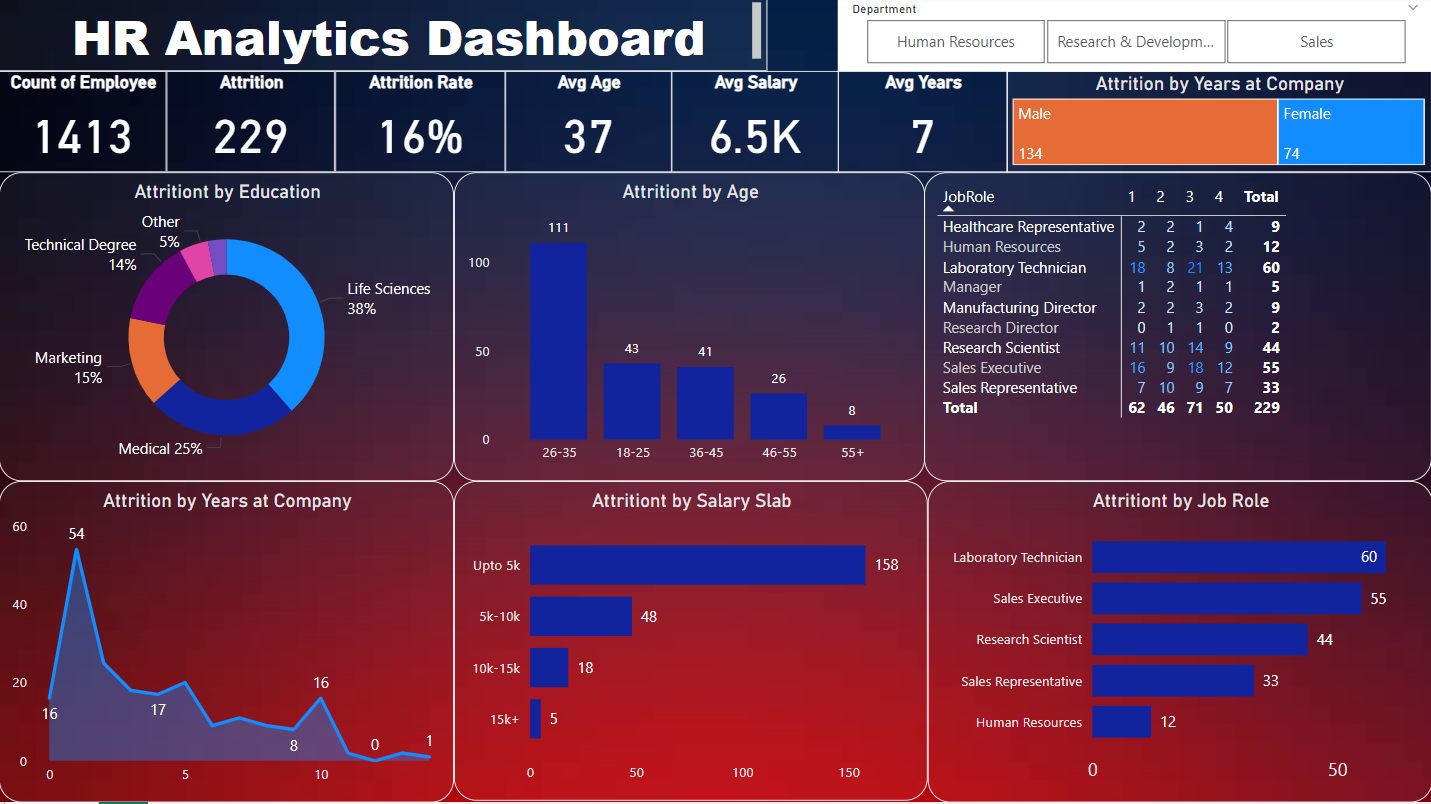

Layout of this report page (visuals, bound fields, positions):
{"tool":"powerbi","page":{"name":"Page 1","canvas":[1280,720],"ordinal":0},"visuals":[{"type":"card","title":"Count of Employee","fields":{"Values":["CountNonNull(HR_Analytics.EmpID)"]},"box":[0,67,149.6,90.4],"z":0},{"type":"card","title":"Attrition","fields":{"Values":["Sum(HR_Analytics.AttritionCount)"]},"box":[149.6,67,150.7,90.4],"z":1000},{"type":"card","title":"Attrition Rate","fields":{"Values":["HR_Analytics.AttritionRate"]},"box":[300.4,67,151.9,90.4],"z":2000},{"type":"card","title":"Avg Age","fields":{"Values":["Avg(HR_Analytics.Age)"]},"box":[452.2,67,148.5,90.4],"z":3000},{"type":"card","title":"Avg Salary","fields":{"Values":["Avg(HR_Analytics.MonthlyIncome)"]},"box":[600.7,67,149.6,90.4],"z":4000},{"type":"card","title":"Avg Years","fields":{"Values":["Avg(HR_Analytics.YearsAtCompany)"]},"box":[749.3,67,151.9,90.4],"z":5000},{"type":"donutChart","title":"Attritiont by Education","fields":{"Category":["HR_Analytics.EducationField"],"Y":["Sum(HR_Analytics.AttritionCount)"]},"box":[0,157.4,406.5,275.8],"z":6000},{"type":"clusteredColumnChart","title":"Attritiont by Age","fields":{"Category":["HR_Analytics.AgeGroup"],"Y":["Sum(HR_Analytics.AttritionCount)"]},"box":[406.5,157.4,421,275.8],"z":7000},{"type":"pivotTable","fields":{"Rows":["HR_Analytics.JobRole"],"Columns":["HR_Analytics.JobSatisfaction"],"Values":["Sum(HR_Analytics.AttritionCount)"]},"box":[826.3,157.4,453.4,275.8],"z":8000},{"type":"clusteredBarChart","title":"Attritiont by Salary Slab","fields":{"Category":["HR_Analytics.SalarySlab"],"Y":["Sum(HR_Analytics.AttritionCount)"]},"box":[406.5,433.3,423.2,285.9],"z":9000},{"type":"areaChart","title":"Attrition by Years at Company","fields":{"Category":["HR_Analytics.YearsAtCompany"],"Y":["Sum(HR_Analytics.AttritionCount)"]},"box":[0,433.3,406.5,287],"z":10000},{"type":"clusteredBarChart","title":"Attritiont by Job Role","fields":{"Y":["Sum(HR_Analytics.AttritionCount)"],"Category":["HR_Analytics.JobRole","HR_Analytics.JobLevel"]},"box":[829.7,433.3,451.1,287],"z":11000},{"type":"textbox","box":[0,0,686.7,67],"z":12000},{"type":"treemap","title":"Attrition by Years at Company","fields":{"Group":["HR_Analytics.Gender"],"Values":["Sum(HR_Analytics.AttritionCount)"]},"box":[900,67,379.7,90.4],"z":13000},{"type":"slicer","fields":{"Values":["HR_Analytics.Department"]},"box":[749.3,0,531.5,67],"z":14000}]}

Visuals, with their boxes in screenshot pixels (x1, y1, x2, y2), scaled from the page's 1280x720 canvas onto the 1431x804 screenshot:
"Count of Employee" card: (0, 75, 167, 176)
"Attrition" card: (167, 75, 336, 176)
"Attrition Rate" card: (336, 75, 506, 176)
"Avg Age" card: (506, 75, 672, 176)
"Avg Salary" card: (672, 75, 839, 176)
"Avg Years" card: (838, 75, 1008, 176)
"Attritiont by Education" donutChart: (0, 176, 454, 484)
"Attritiont by Age" clusteredColumnChart: (454, 176, 925, 484)
pivotTable - HR_Analytics.JobRole x HR_Analytics.JobSatisfaction: (924, 176, 1430, 484)
"Attritiont by Salary Slab" clusteredBarChart: (454, 484, 928, 803)
"Attrition by Years at Company" areaChart: (0, 484, 454, 803)
"Attritiont by Job Role" clusteredBarChart: (928, 484, 1430, 803)
textbox: (0, 0, 768, 75)
"Attrition by Years at Company" treemap: (1006, 75, 1430, 176)
slicer - HR_Analytics.Department: (838, 0, 1430, 75)
